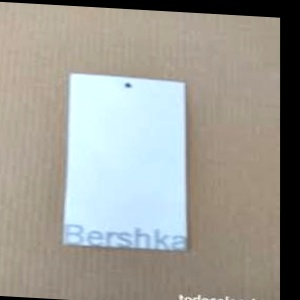bershka: (146, 95, 232, 300)
